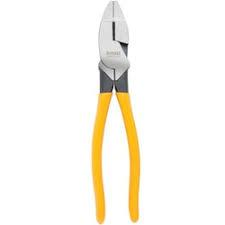pliers: (90, 0, 140, 224)
